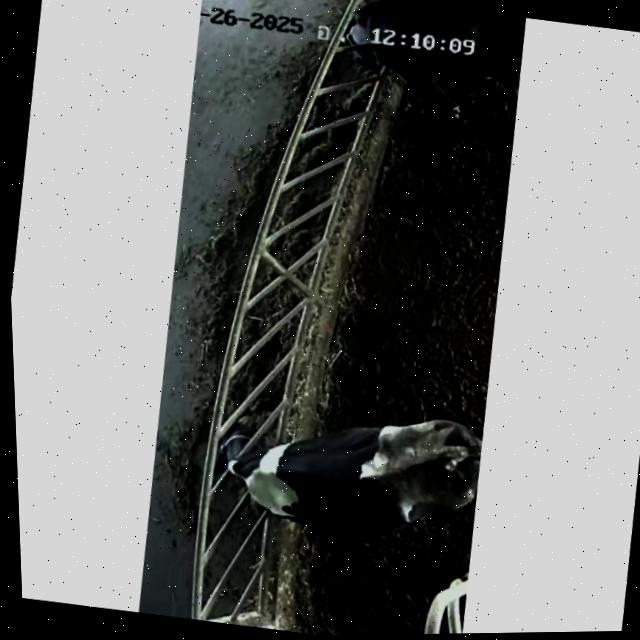eat: (157, 376, 337, 533), (263, 0, 462, 100)
